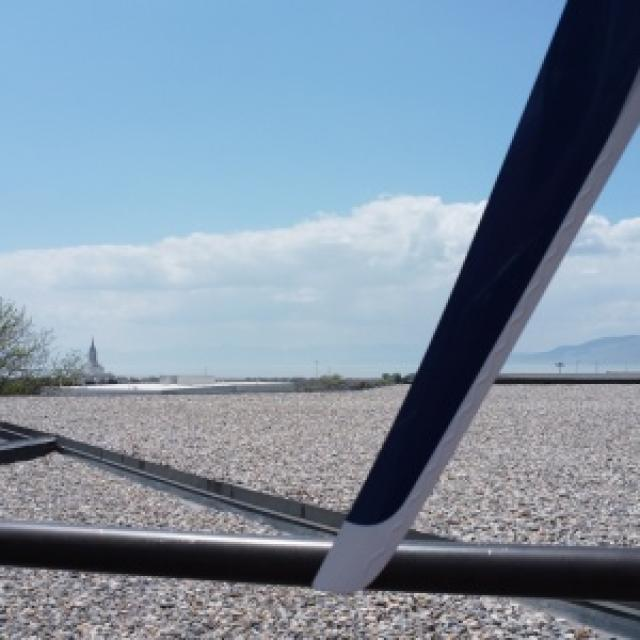healthy: (523, 222, 638, 346)
